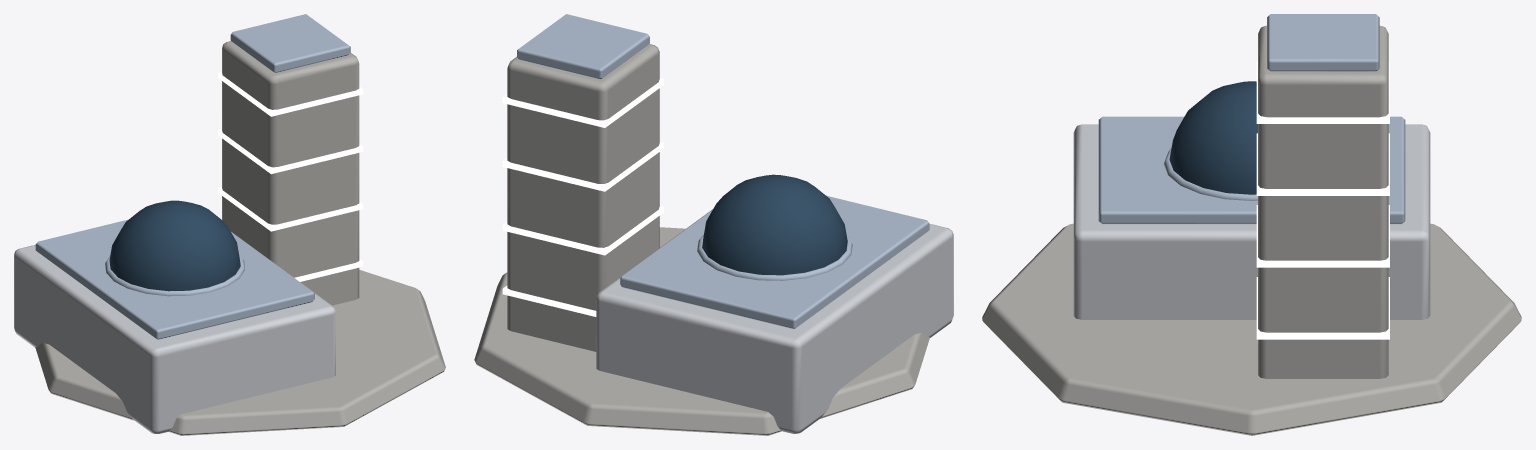
Rendered from mixed.glb.
3 views of the same model, side by side, from view 1: azimuth 30°, elevation 25°; view 2: azimuth 150°, elevation 25°; view 3: azimuth 270°, elevation 25° (orthographic). The views are drawn at different scales.
Visible parts, largest first — view 1: mixed; view 2: mixed; view 3: mixed.
Boxes of the visible parts, x1,y1,x2,y2 form: mixed: (14, 14, 445, 435); mixed: (474, 14, 953, 435); mixed: (982, 14, 1521, 435).
Bounding box in the file's own units: 0.907 × 0.625 × 0.907.
